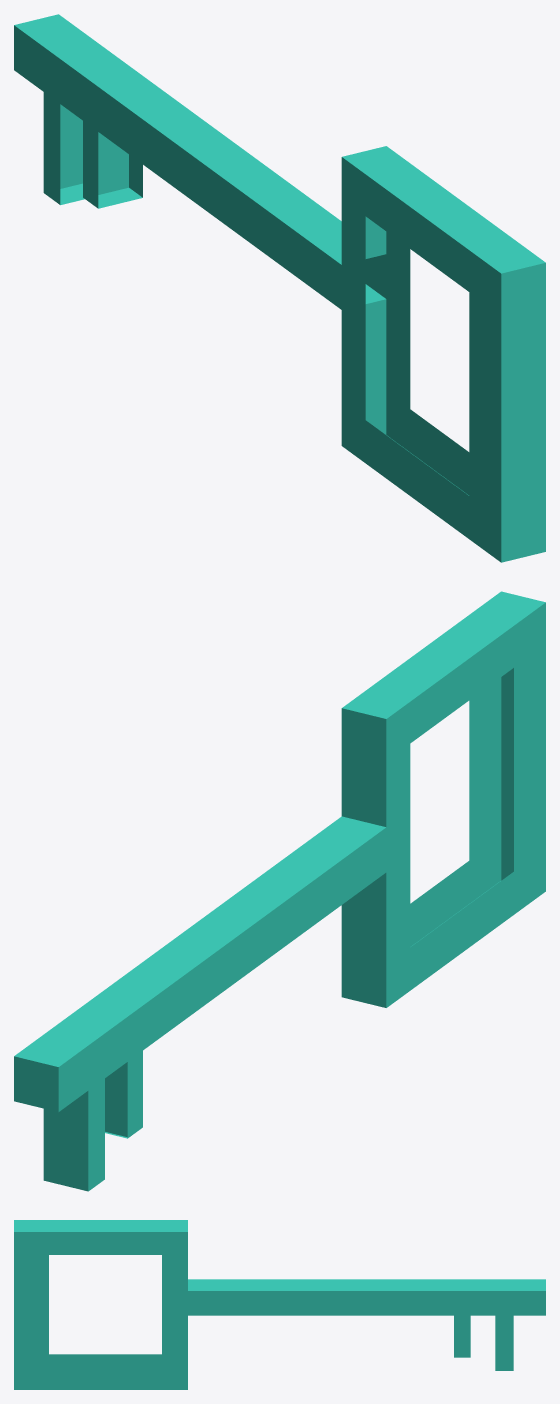
File: Key.fbx
3 views of the same model, one above another, from view 1: azimuth 30°, elevation 25°; view 2: azimuth 150°, elevation 25°; view 3: azimuth 270°, elevation 25° (orthographic). The views are drawn at different scales.
Visible parts, largest first — view 1: Cube; view 2: Cube; view 3: Cube.
Boxes of the visible parts, <box> form: Cube: <box>14,14,545,562</box>; Cube: <box>14,591,545,1191</box>; Cube: <box>14,1220,545,1389</box>.
Size of the model in its own units: 32.38 by 200 by 611.
